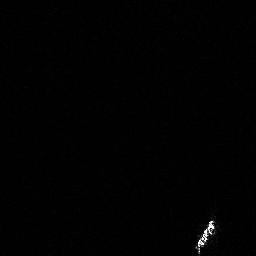ship: (192, 217, 218, 255)
